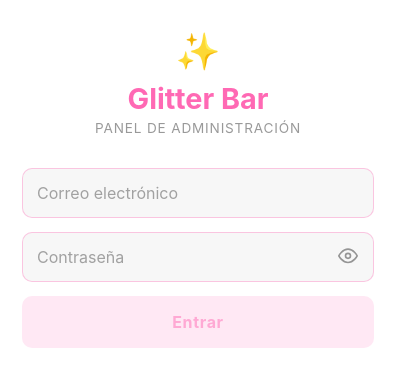
Test: LoginPage › shows error message on failed login
This screenshot has width=397, height=390.
Type "admin@test.com" into the field with placeholder "Correo electrónico" at (198, 192), box [22,168,374,218]
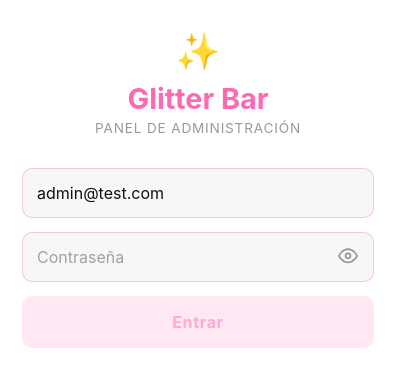
Type "wrongpass" into the password field with placeholder "Contraseña" at (198, 256), box [22,232,374,282]
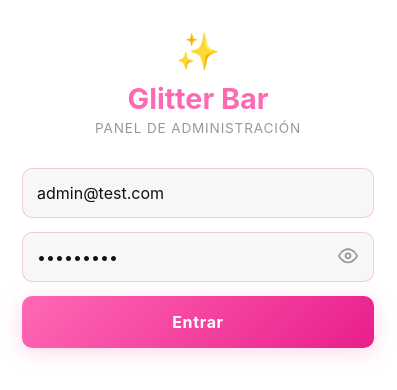
Click the button "Entrar" at (198, 322), box [22,296,374,348]
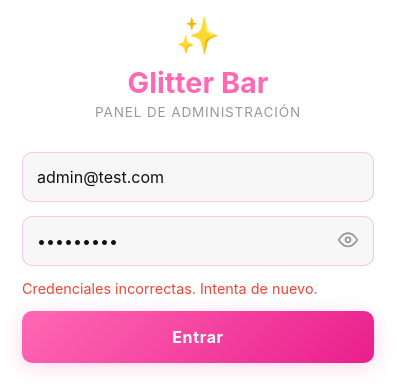
Result: the text "Credenciales incorrectas. Intenta de nuevo." is shown at [22,280,318,297]
